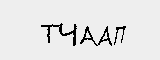А: (81, 22, 98, 47), (99, 24, 112, 49)
П: (113, 23, 127, 44)
Т: (41, 24, 58, 43)
Ч: (59, 19, 81, 47)
